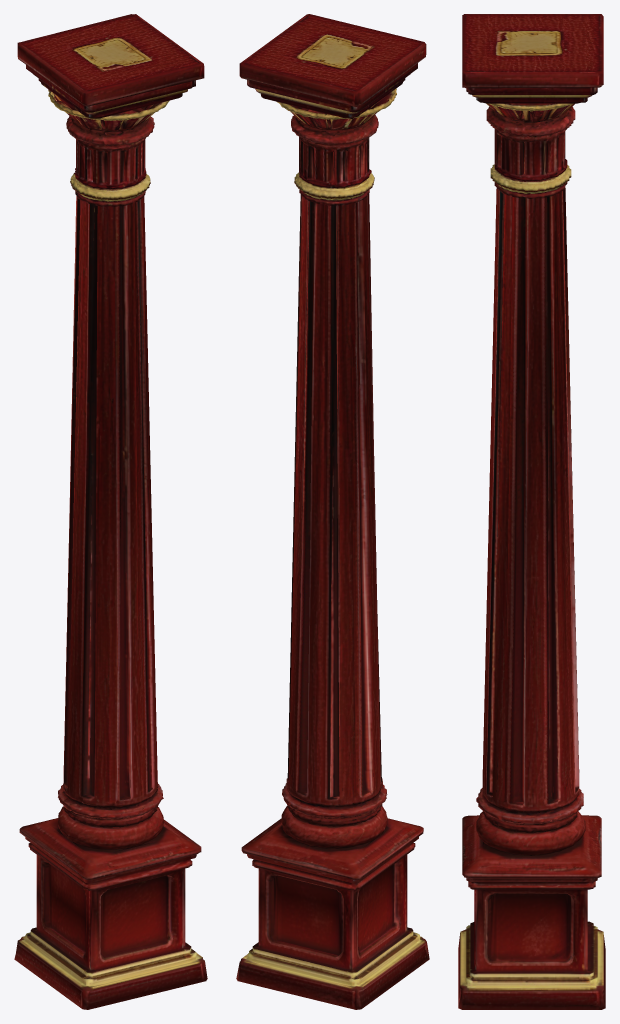
File: theme-stage-pillar-v05.glb
3 renders of one model, left to right at view 1: azimuth 30°, elevation 25°; view 2: azimuth 150°, elevation 25°; view 3: azimuth 270°, elevation 25°, orthographic. The views are drawn at different scales.
Parts seen in each view (by area): view 1: tripo_node_b06f3253-5ff2-45dc-9307-819ccd175aa3; view 2: tripo_node_b06f3253-5ff2-45dc-9307-819ccd175aa3; view 3: tripo_node_b06f3253-5ff2-45dc-9307-819ccd175aa3.
Part boxes in pixels (bbox=[...]): tripo_node_b06f3253-5ff2-45dc-9307-819ccd175aa3: bbox=[14, 14, 207, 1009]; tripo_node_b06f3253-5ff2-45dc-9307-819ccd175aa3: bbox=[236, 14, 429, 1009]; tripo_node_b06f3253-5ff2-45dc-9307-819ccd175aa3: bbox=[458, 14, 605, 1009].
Size of the model in its own units: 0.3857 by 2.7 by 0.3857.
1 material, 1 textured.
